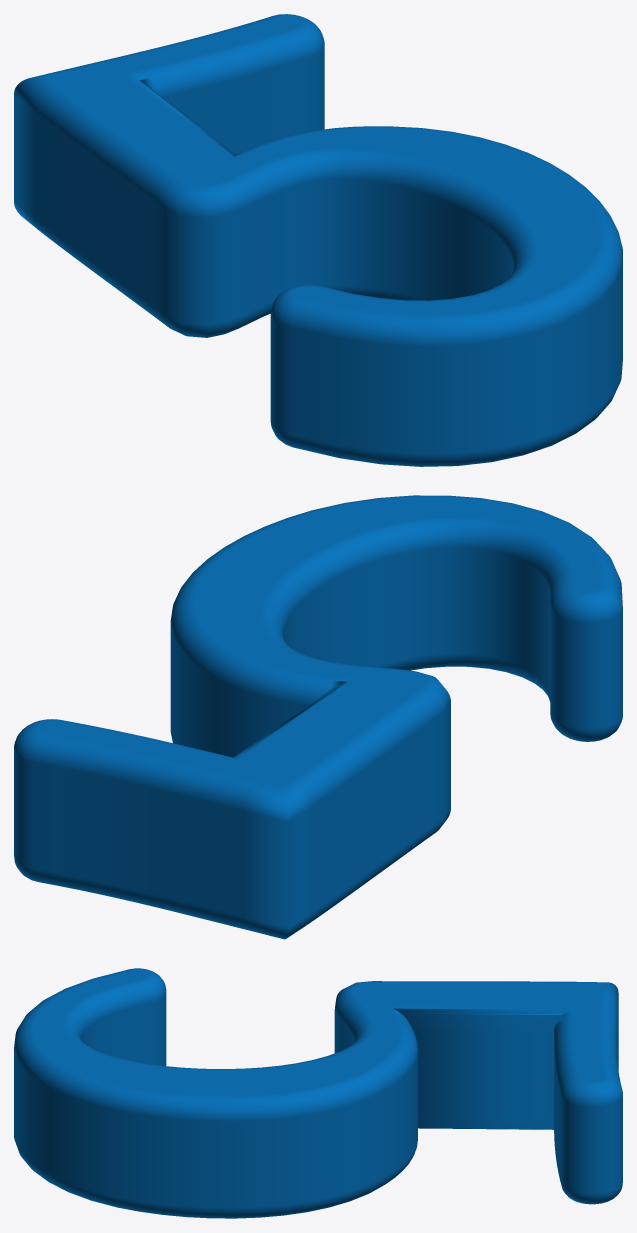
3 views of the same model, one above another, from view 1: azimuth 30°, elevation 25°; view 2: azimuth 150°, elevation 25°; view 3: azimuth 270°, elevation 25° (orthographic). The views are drawn at different scales.
Visible parts, largest first — view 1: 1; view 2: 1; view 3: 1.
Part boxes in pixels (left/top/right/bottom): 1: left=14, top=14, right=622, bottom=466; 1: left=14, top=495, right=622, bottom=939; 1: left=14, top=968, right=622, bottom=1218.
Size of the model in its own units: 84.45 by 33.4 by 153.
